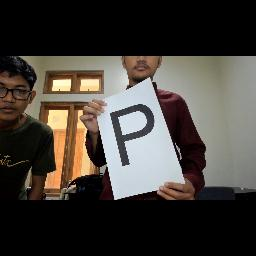p: (104, 100, 168, 178)
